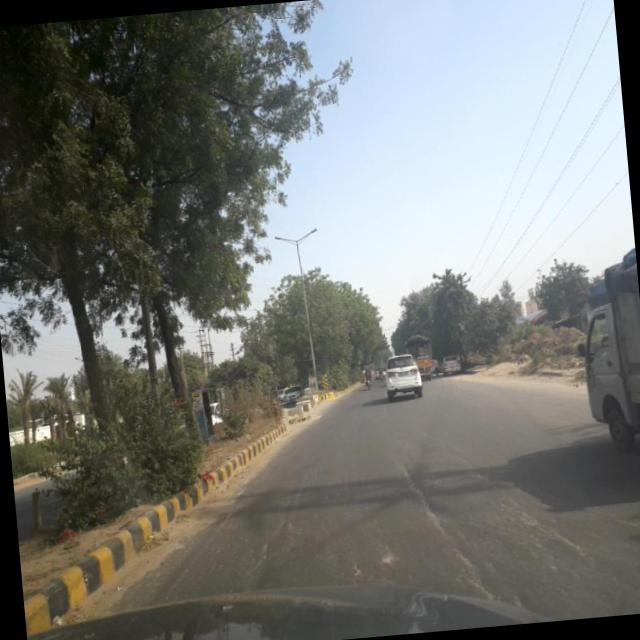crack: (382, 438, 502, 608), (484, 446, 588, 594)
